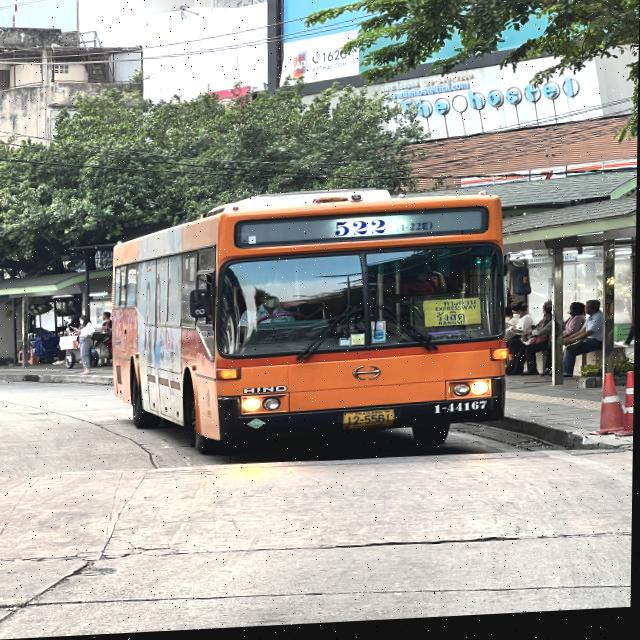BMTA-bus: (107, 189, 512, 469)
Bus-Line-Number: (323, 214, 439, 245)
Destination-Sign-Normal-Expressway: (420, 302, 485, 332)
